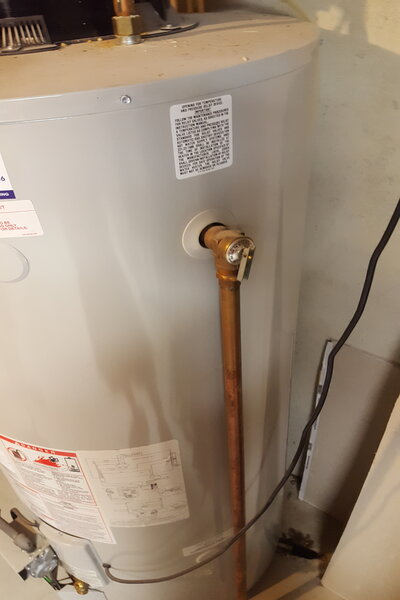valve: (198, 220, 257, 300)
